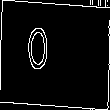O_S: (44, 29, 66, 81)
